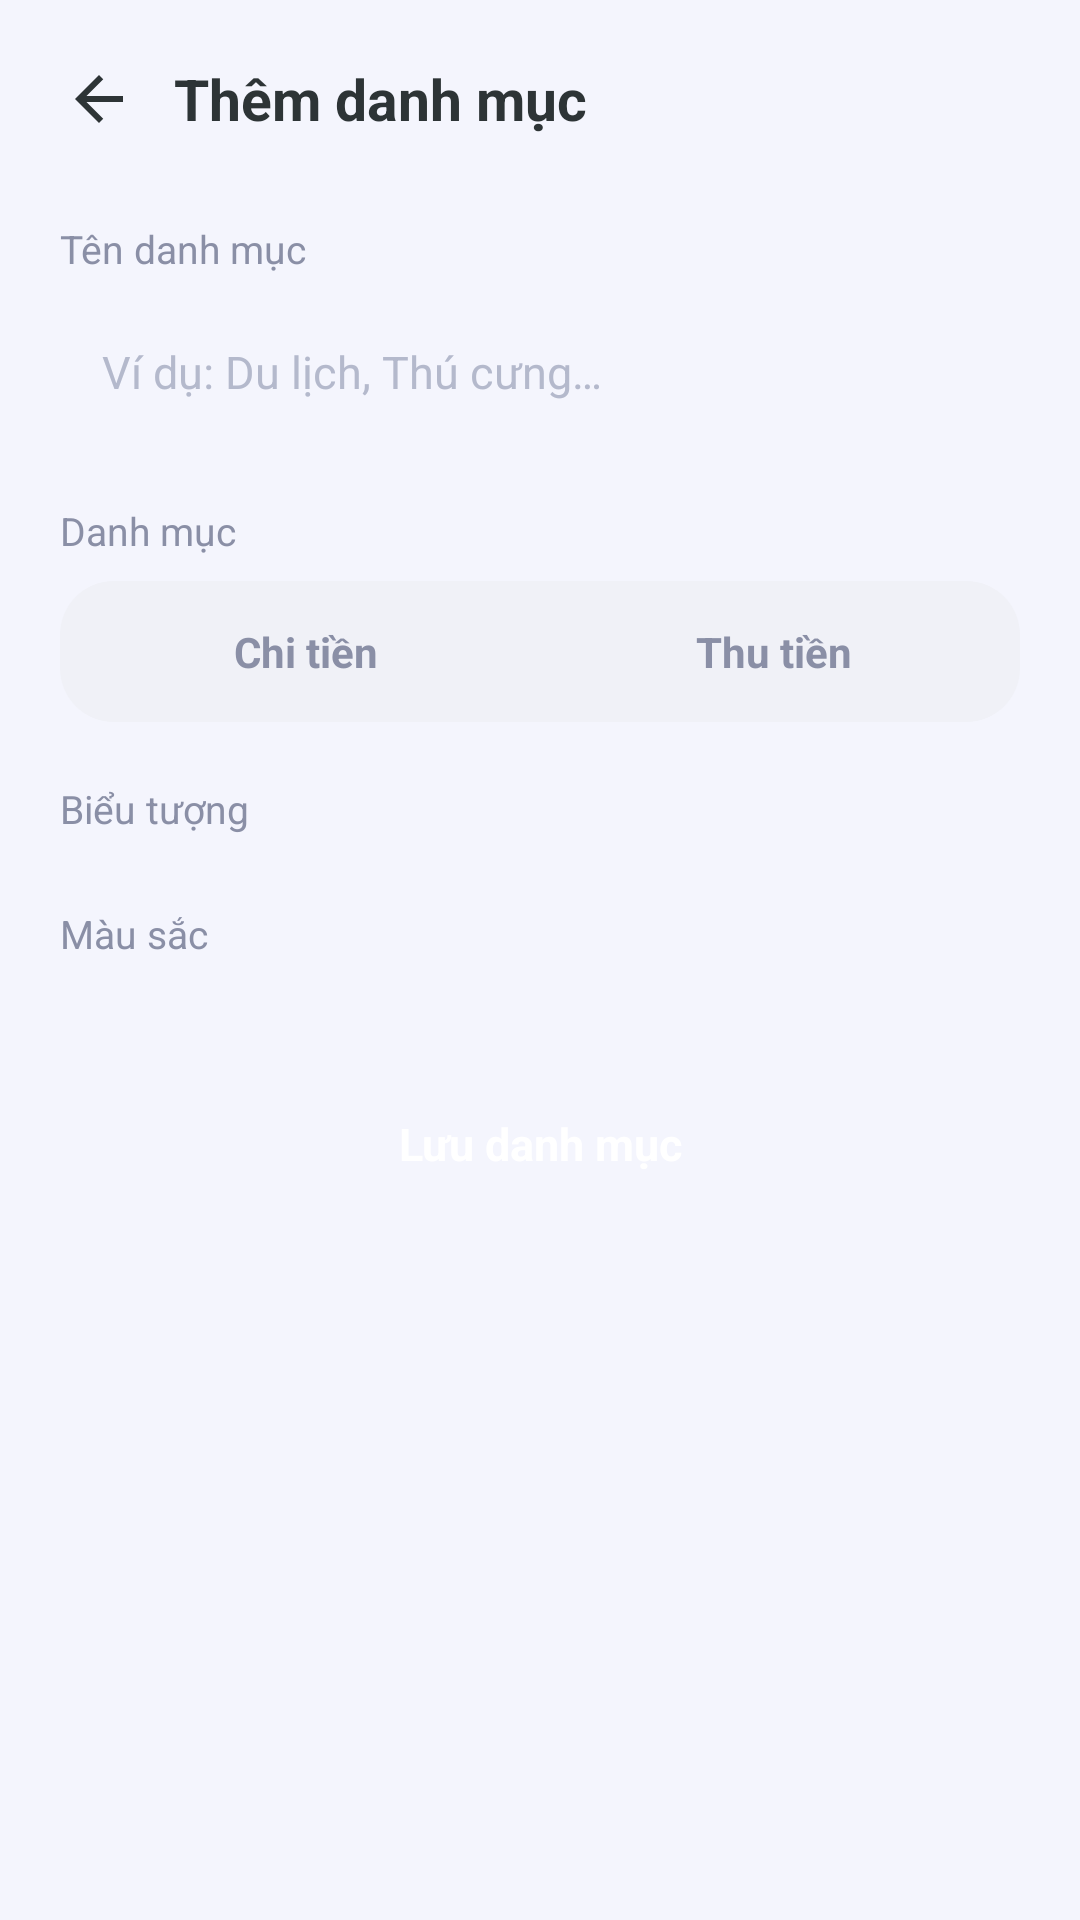

Named icons in this screenshot (1080x1920) and their centers, [x,y]:
Hủy: [99,99]
